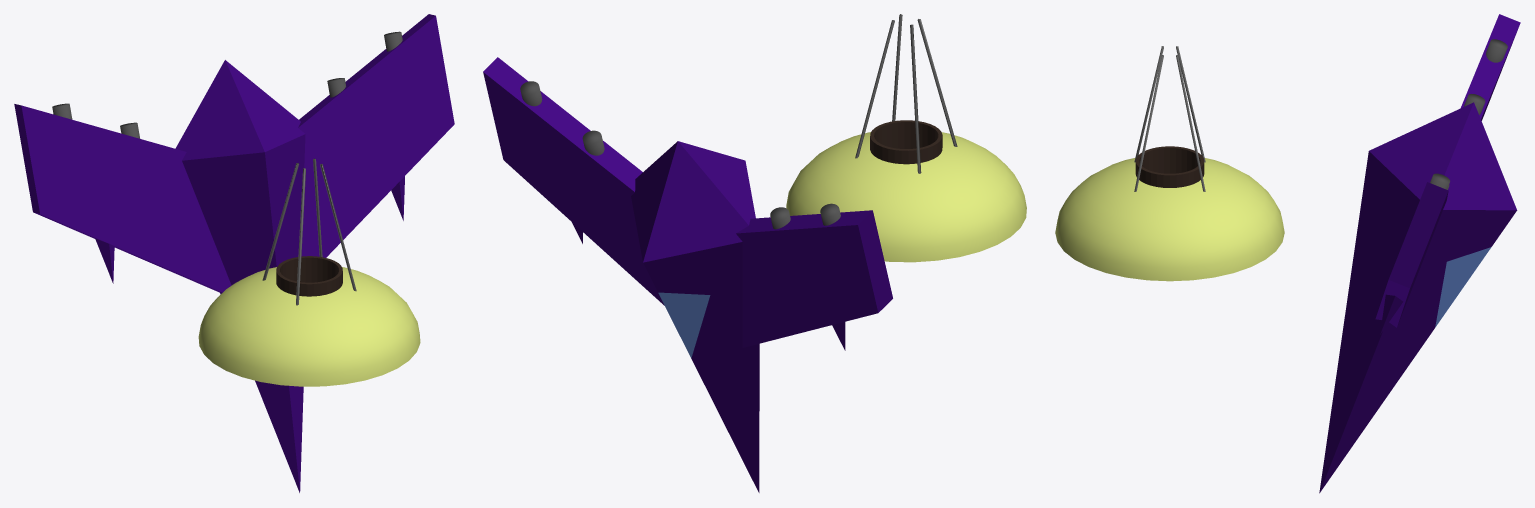
Rendered from GMAP_231_Final_Area_1_005.fbx.
3 views of the same model, side by side, from view 1: azimuth 30°, elevation 25°; view 2: azimuth 150°, elevation 25°; view 3: azimuth 270°, elevation 25° (orthographic). The views are drawn at different scales.
Parts seen in each view (by area): view 1: wrecked_ship, island, Cylinder.001, pillars.004; view 2: wrecked_ship, island, Cylinder.001, pillars.002; view 3: wrecked_ship, island, Cylinder.001.
Boxes of the visible parts, <box> form: wrecked_ship: <box>14,14,454,492</box>; island: <box>198,267,420,386</box>; Cylinder.001: <box>276,256,342,296</box>; pillars.004: <box>296,168,305,305</box>; wrecked_ship: <box>483,57,892,492</box>; island: <box>786,132,1026,262</box>; Cylinder.001: <box>870,120,942,164</box>; pillars.002: <box>910,24,921,173</box>; wrecked_ship: <box>1319,14,1520,493</box>; island: <box>1055,158,1284,281</box>; Cylinder.001: <box>1135,146,1204,187</box>.
Size of what is drawn, in the model's own units: 19888 by 19783 by 20279.
